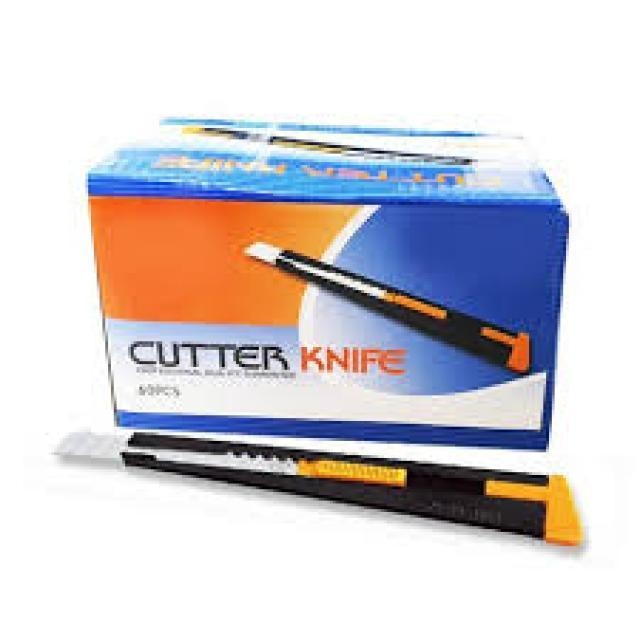cutter: (39, 416, 599, 564)
